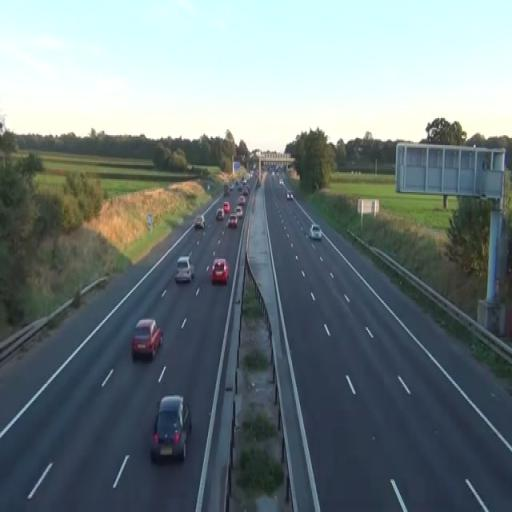Car: (150, 395, 192, 464), (131, 319, 163, 361), (174, 255, 194, 284), (211, 258, 230, 284), (309, 224, 322, 240), (194, 215, 205, 230), (228, 216, 238, 228), (216, 208, 224, 222)
